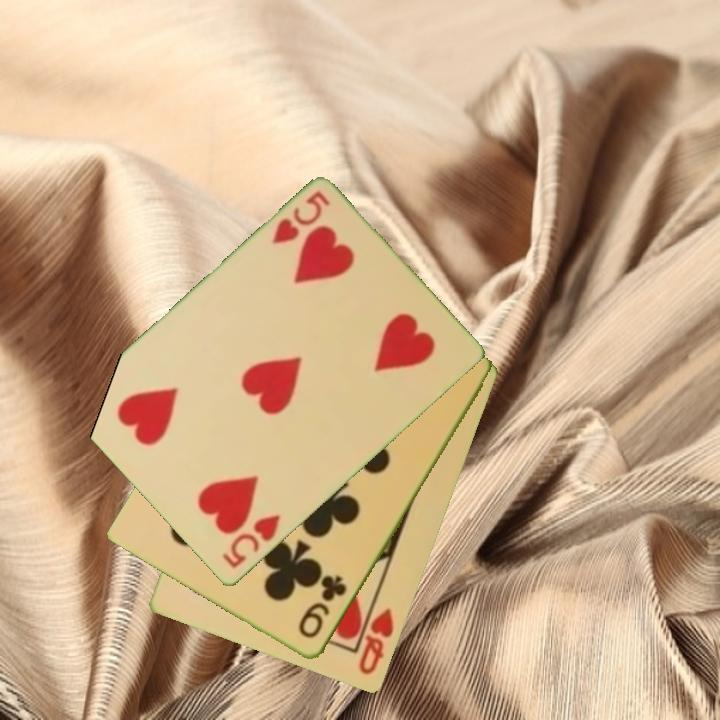5h: (218, 511, 283, 572), (269, 187, 333, 248)
9c: (294, 572, 350, 642)
Qh: (353, 596, 397, 679)
